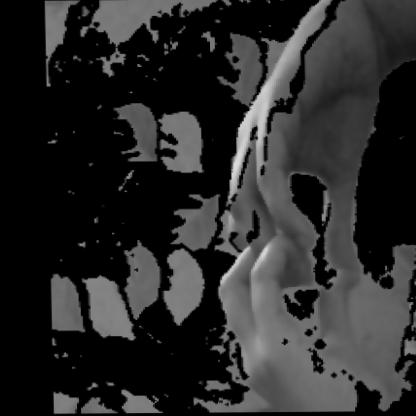heart: (209, 62, 378, 379)
